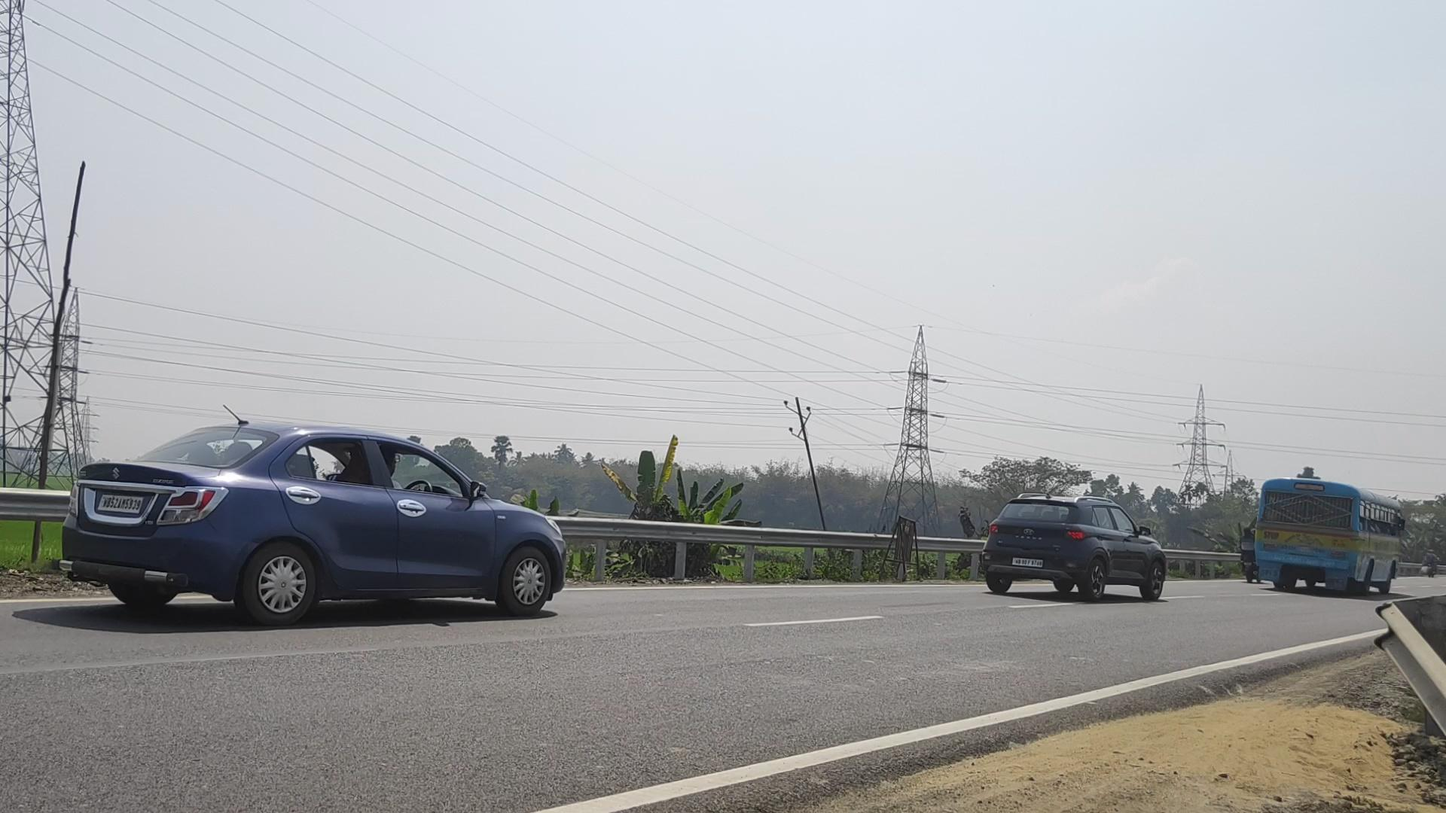Bus: (1254, 478, 1405, 596)
car: (62, 423, 568, 627), (981, 492, 1167, 603)
